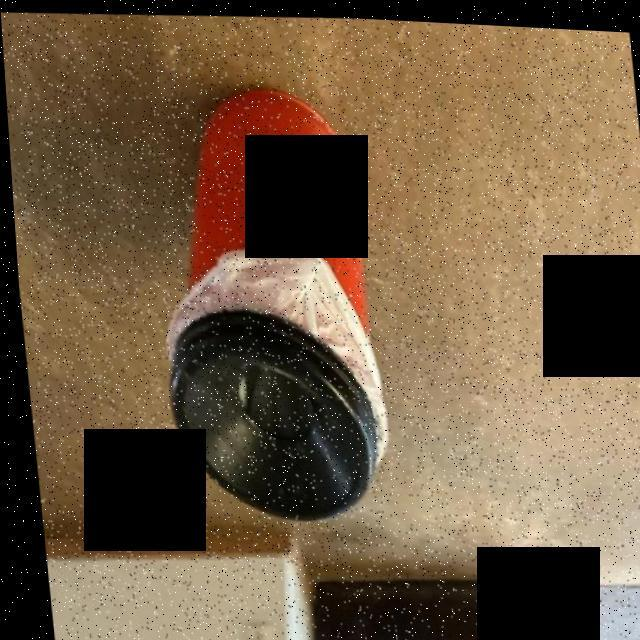bin: (116, 32, 414, 579)
